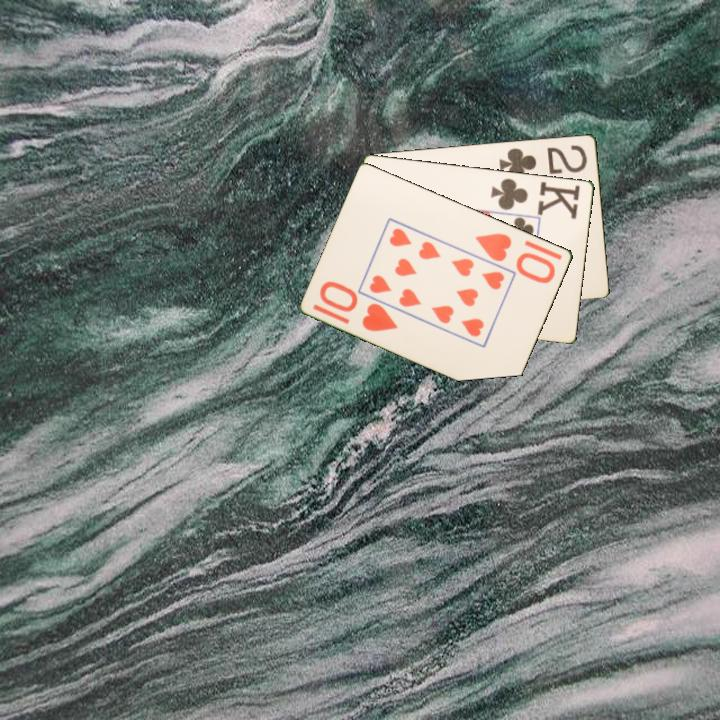10h: (472, 229, 559, 286), (316, 278, 401, 334)
2c: (496, 141, 590, 182)
Kc: (487, 174, 583, 221)
